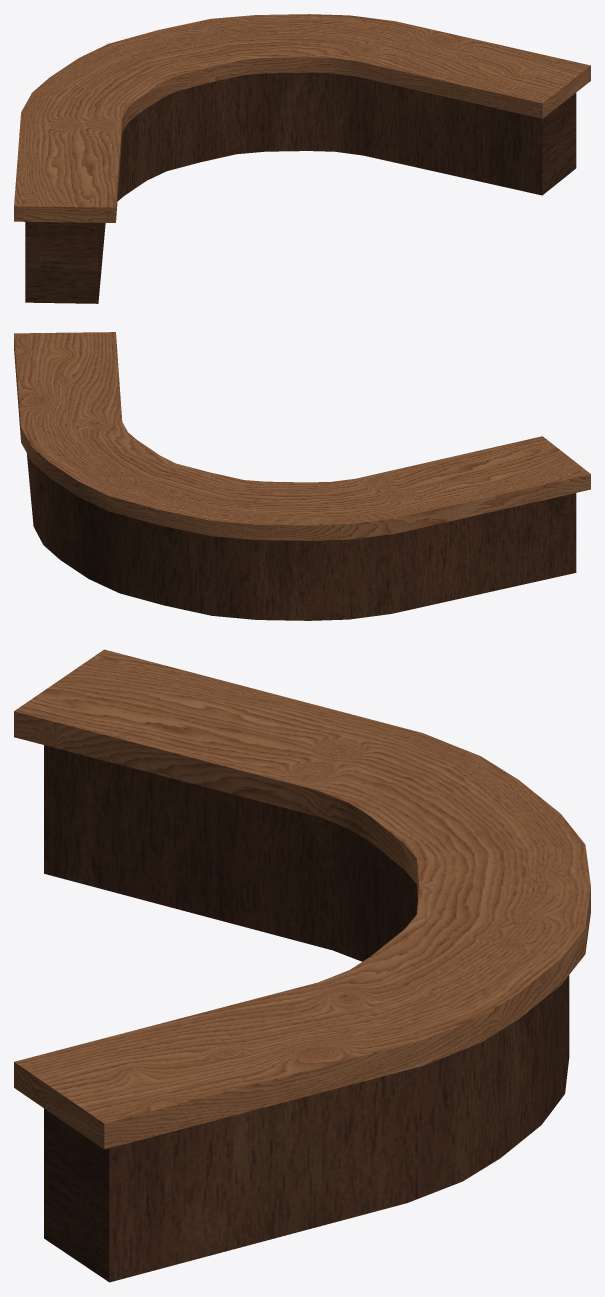
Rendered from Table.glb.
3 views of the same model, one above another, from view 1: azimuth 30°, elevation 25°; view 2: azimuth 150°, elevation 25°; view 3: azimuth 270°, elevation 25° (orthographic). The views are drawn at different scales.
Parts seen in each view (by area): view 1: BigTable; view 2: BigTable; view 3: BigTable.
Boxes of the visible parts, left/top/right/bottom form: BigTable: left=14, top=14, right=590, bottom=303; BigTable: left=14, top=332, right=590, bottom=620; BigTable: left=14, top=649, right=590, bottom=1282.
Bounding box in the file's own units: 0.3937 × 0.0657 × 0.2025.
Materials: 1 (1 with a texture image).
